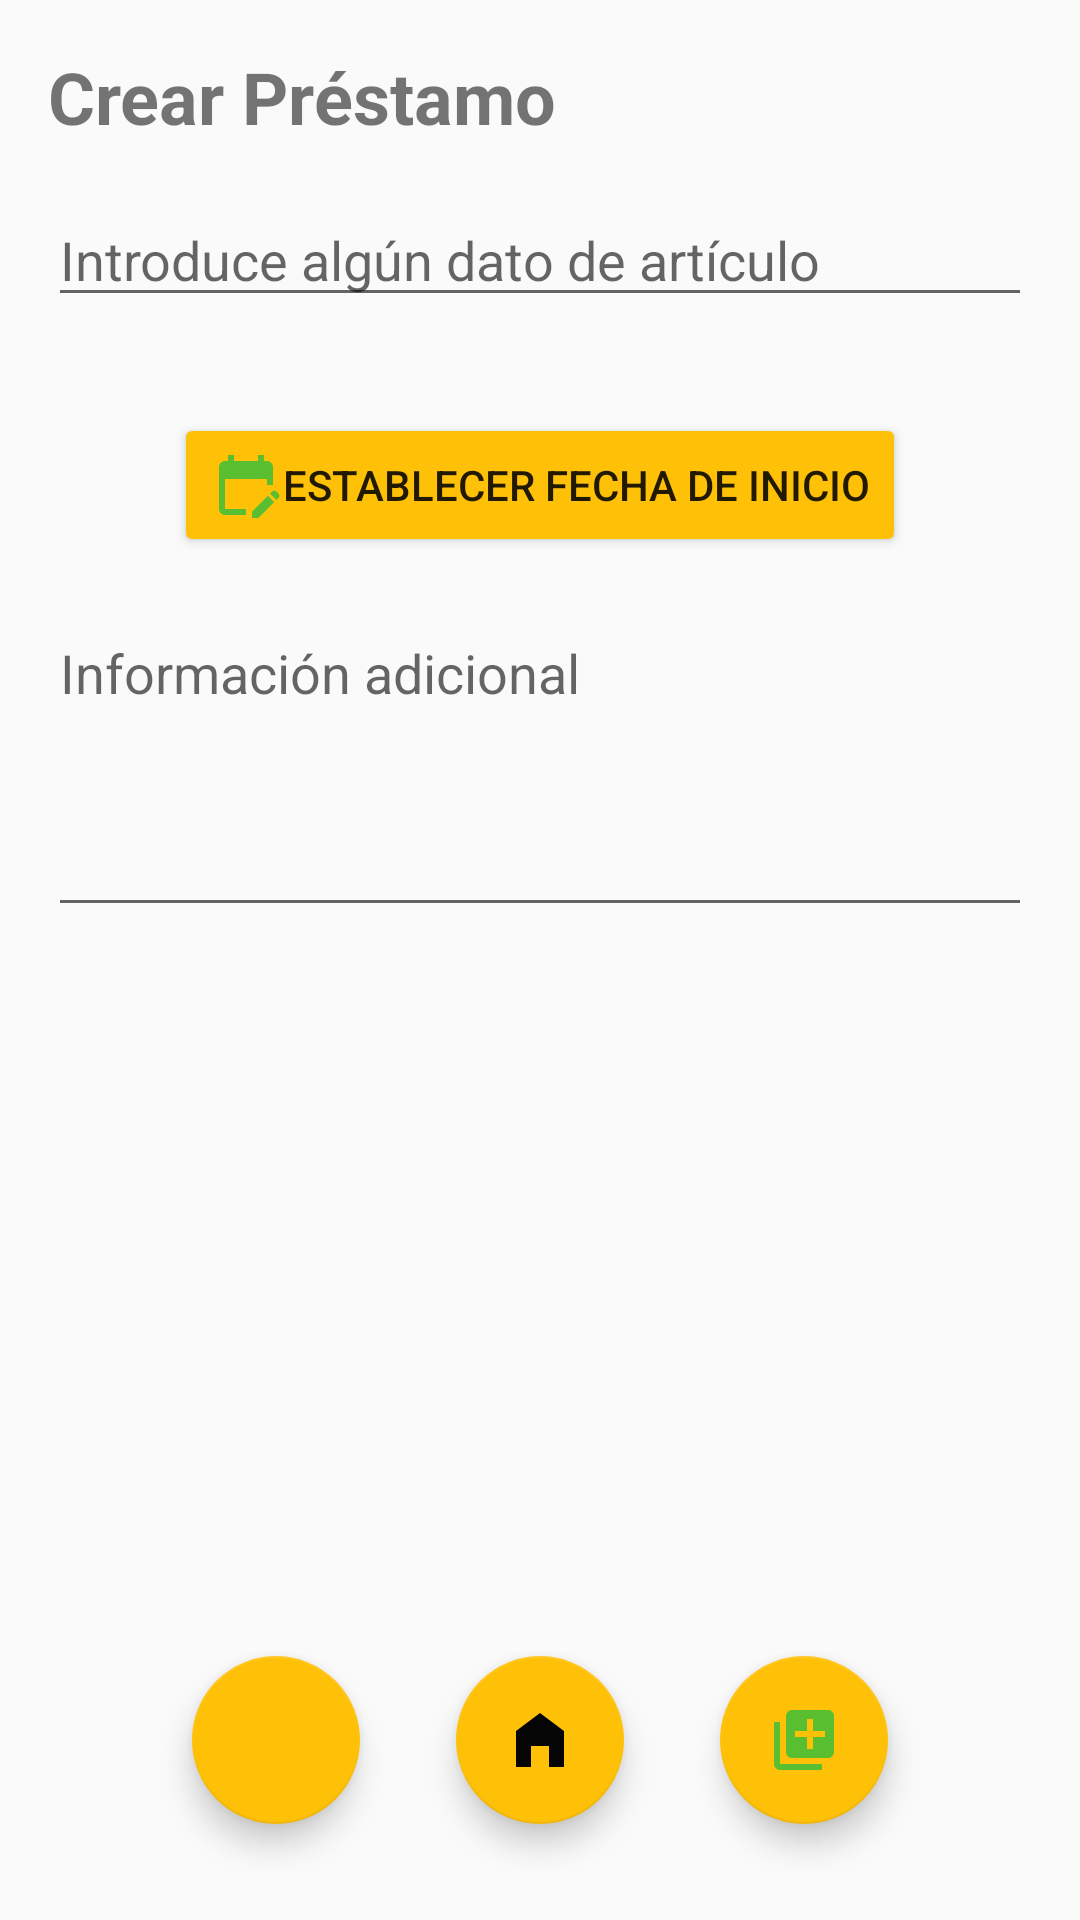

Screen size 1080 x 1920. Icon name, then its box in pixels as (x1=x1, y1=y1, x2=x2, y2=y2):
home: (x1=456, y1=1656, x2=624, y2=1824)
